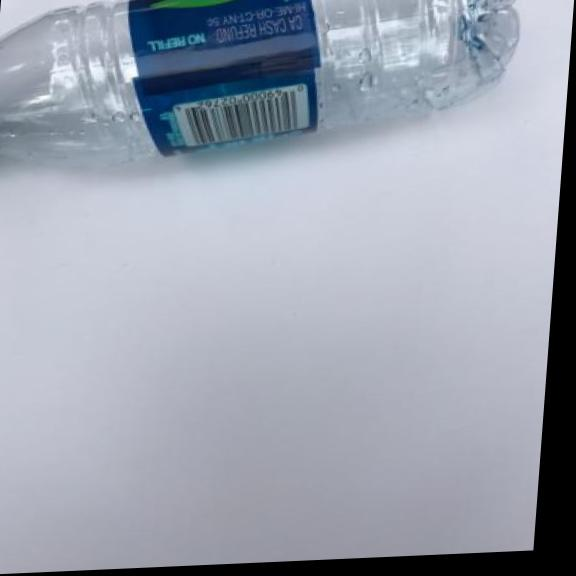Plastik: (0, 0, 530, 176)
